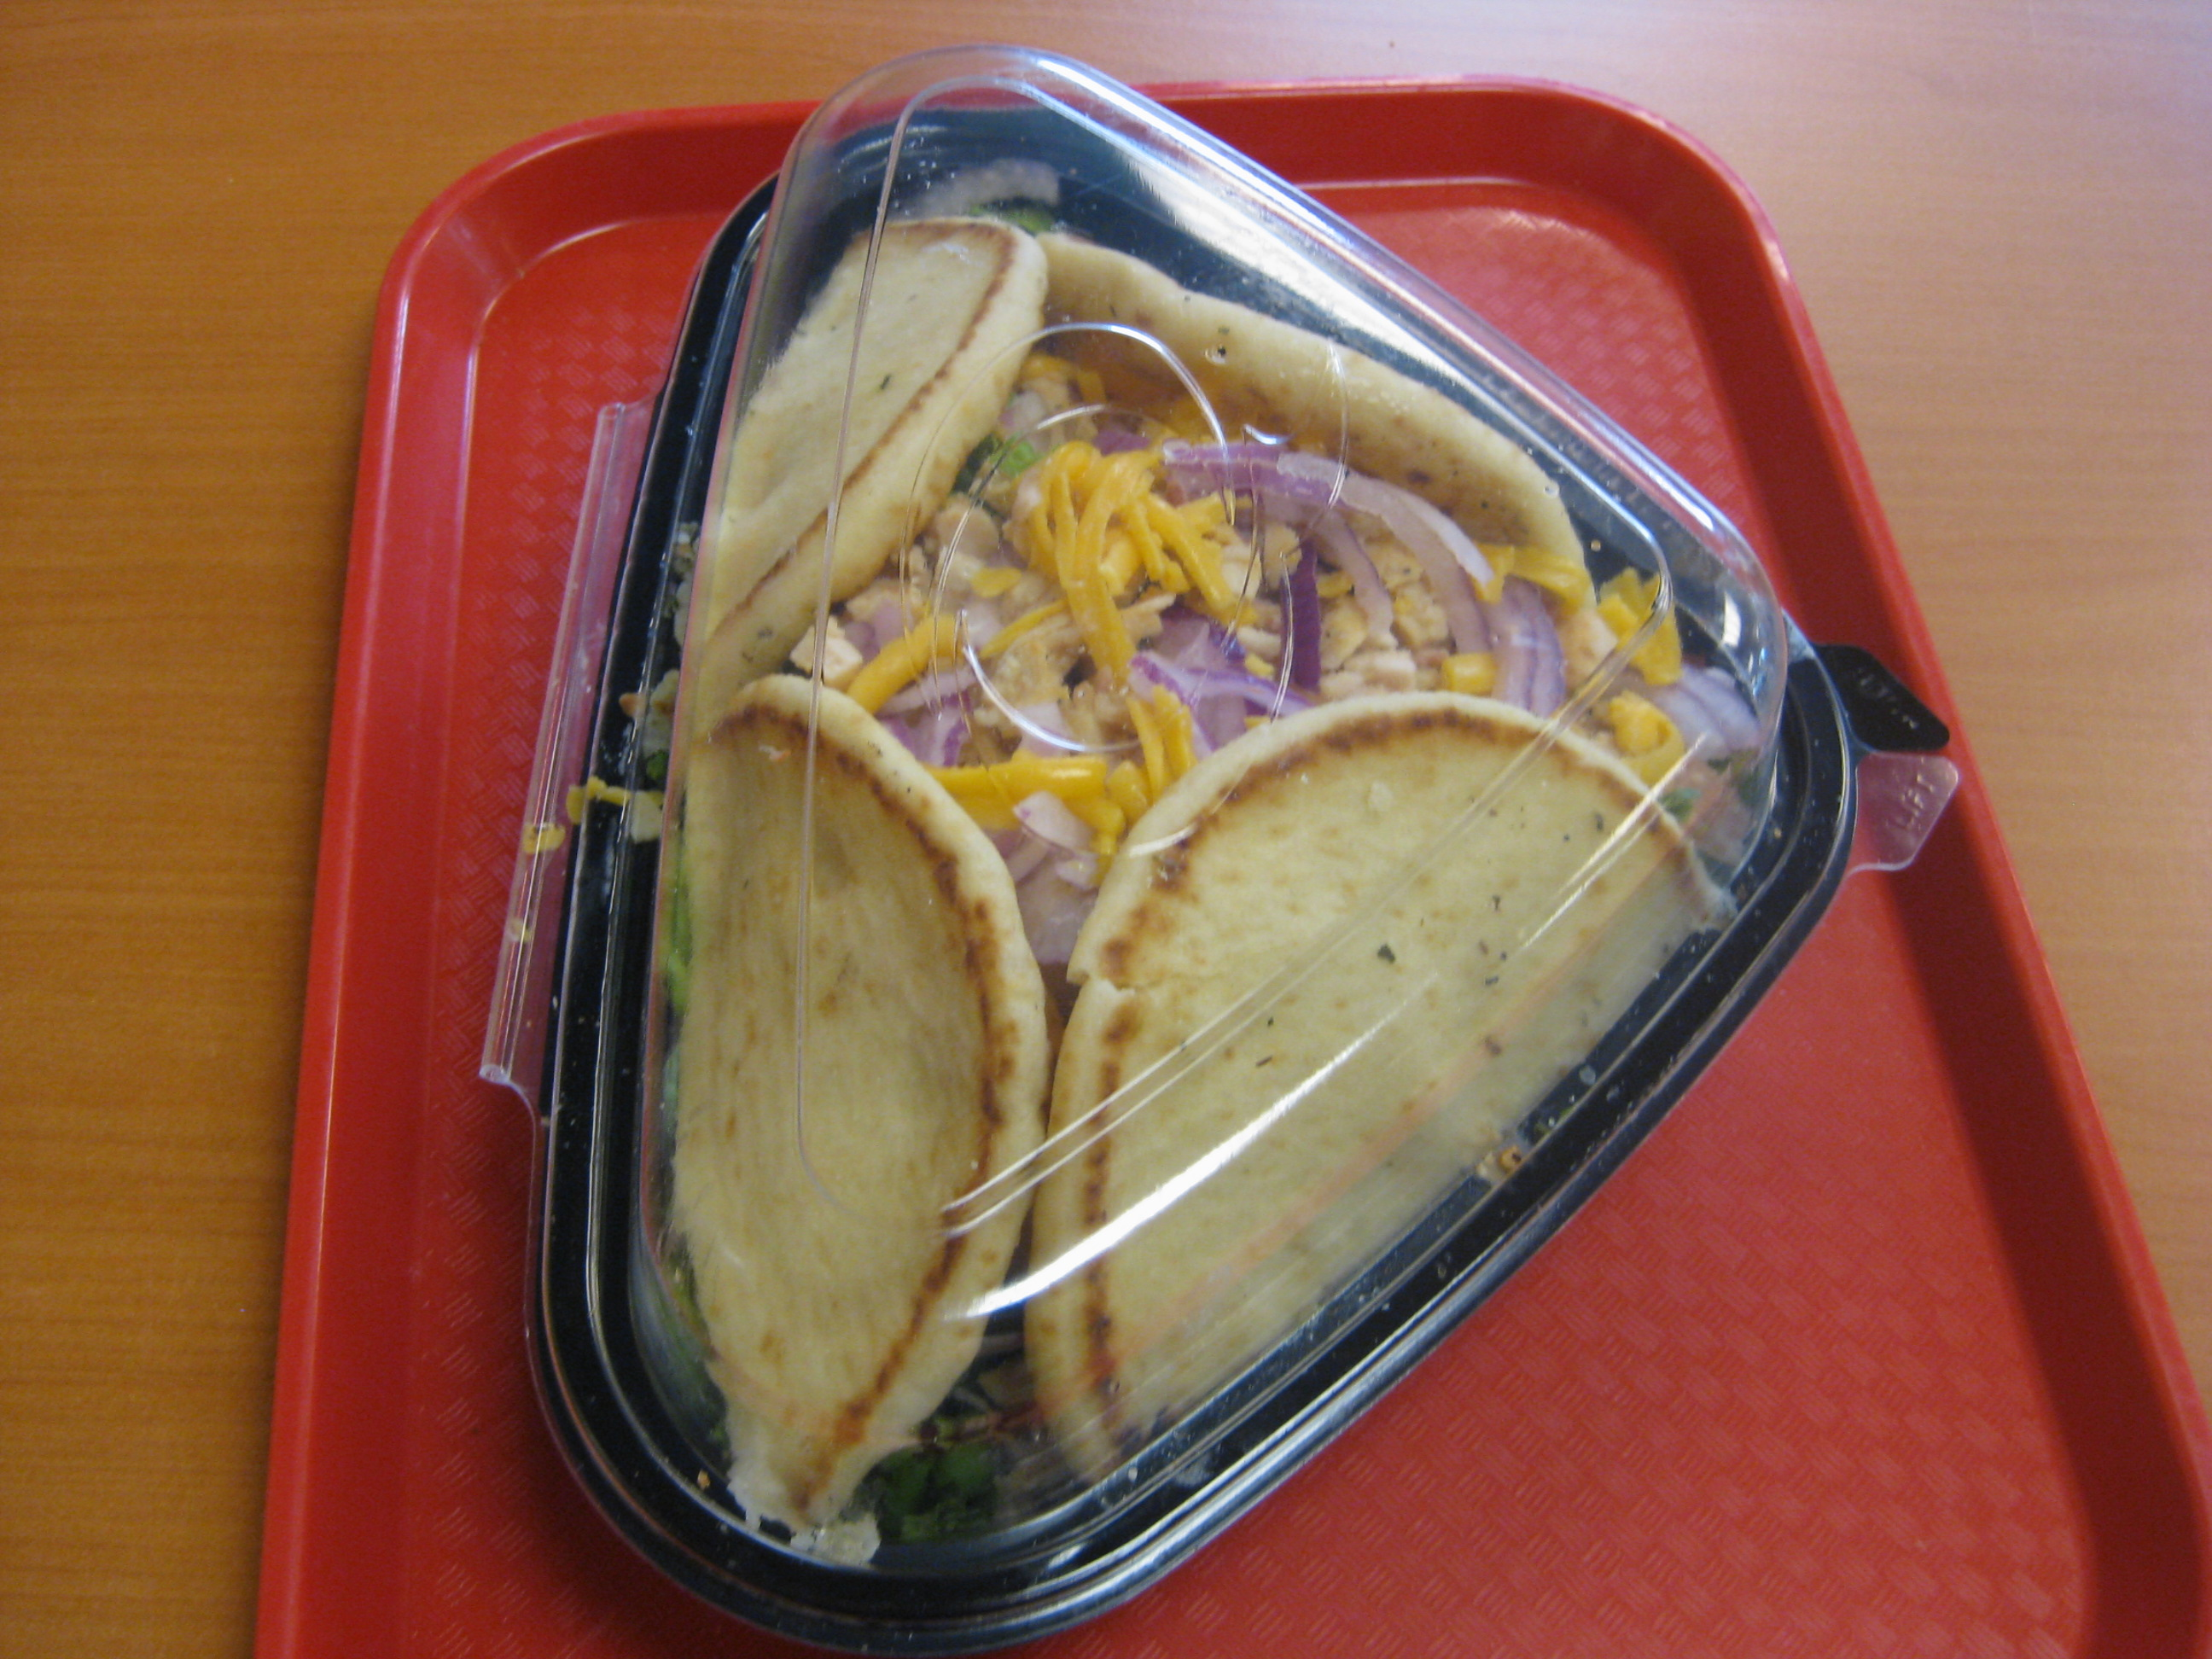burrito: (646, 74, 1804, 1512)
